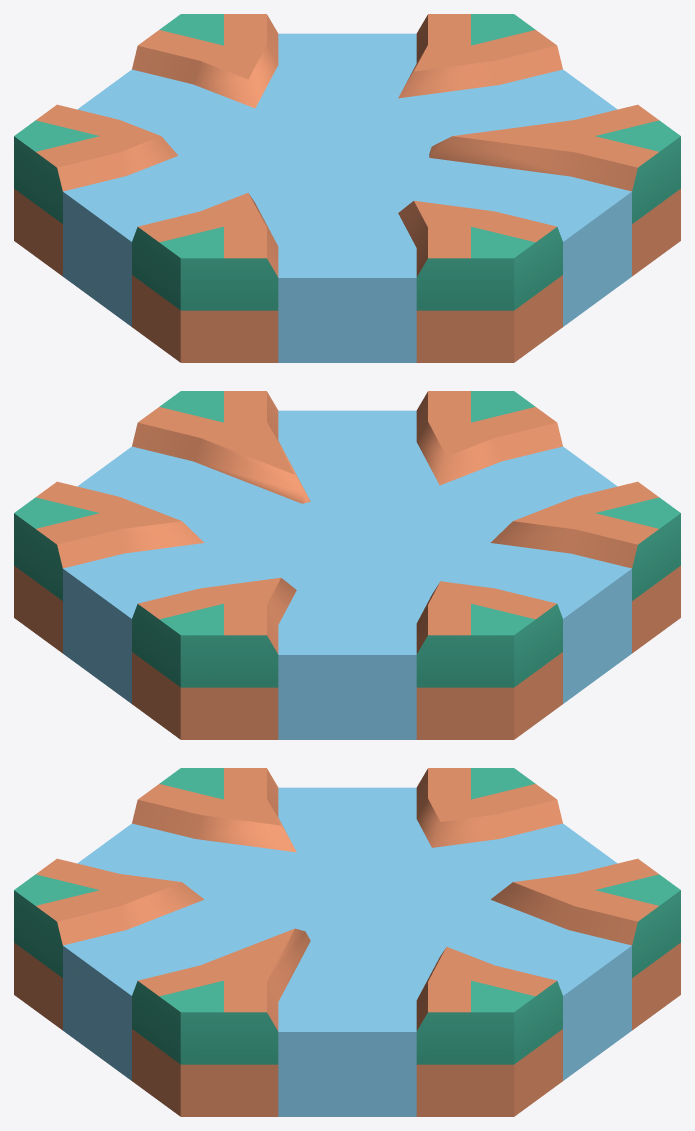
The model's file is river-crossing.gltf.
3 views of the same model, one above another, from view 1: azimuth 30°, elevation 25°; view 2: azimuth 150°, elevation 25°; view 3: azimuth 270°, elevation 25° (orthographic).
Visible parts, largest first — view 1: river_crossing; view 2: river_crossing; view 3: river_crossing.
Part boxes in pixels (left/top/right/bottom): river_crossing: left=14, top=14, right=680, bottom=362; river_crossing: left=14, top=391, right=680, bottom=739; river_crossing: left=14, top=768, right=680, bottom=1116.
Size of the model in its own units: 1 by 0.2 by 1.15.
1 material, 1 textured.
